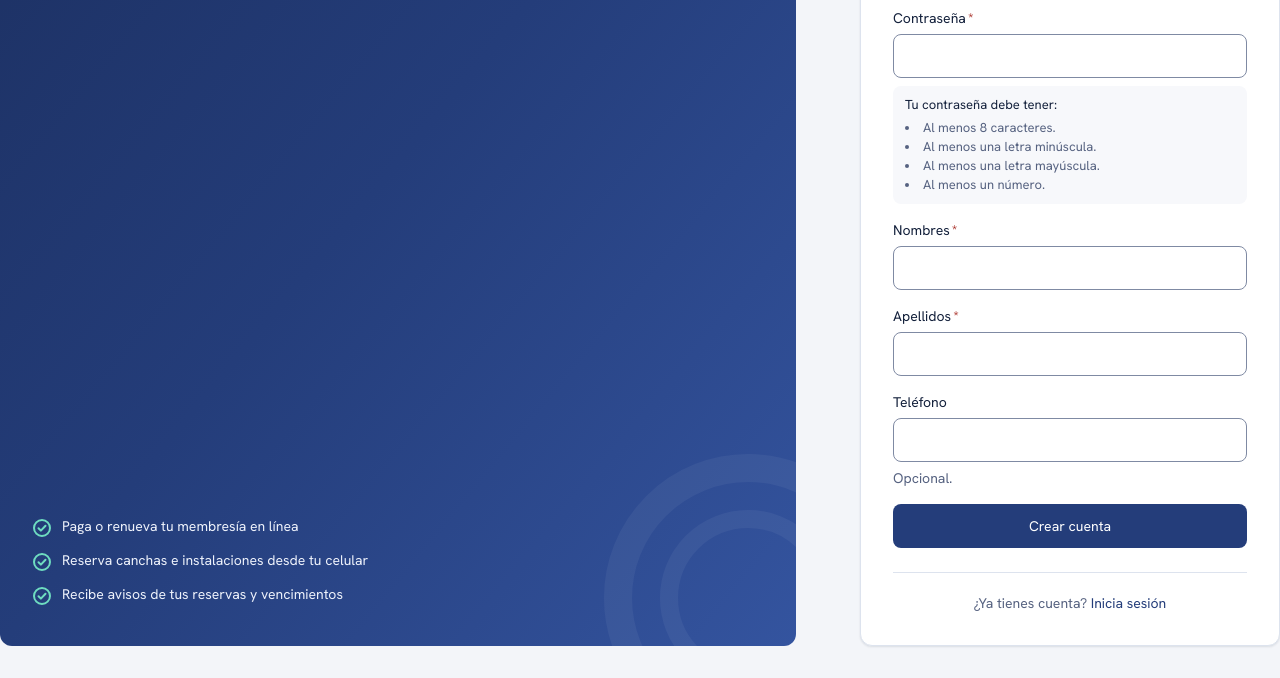
RegisterPage › valida los campos requeridos antes de registrar (criterio 3)
The width and height of the screenshot is (1280, 678).
(page scrolled)
Click the button "Crear cuenta": [1070, 526] box [893,504,1247,548]
(page scrolled)
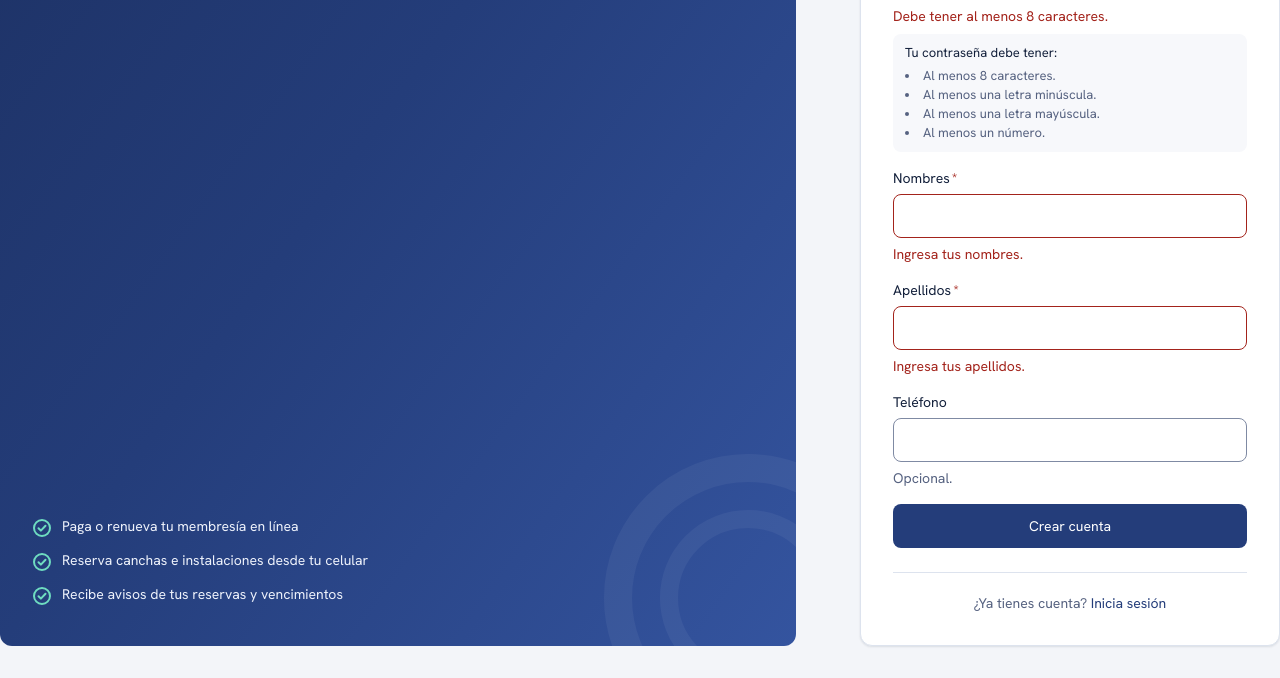
Check: the text "Debe tener al menos 8 caracteres." is shown, box [893,7,1108,25]
Check: the text "Ingresa tus nombres." is shown, box [893,245,1023,263]
Check: the text "Ingresa tus apellidos." is shown, box [893,357,1025,375]
